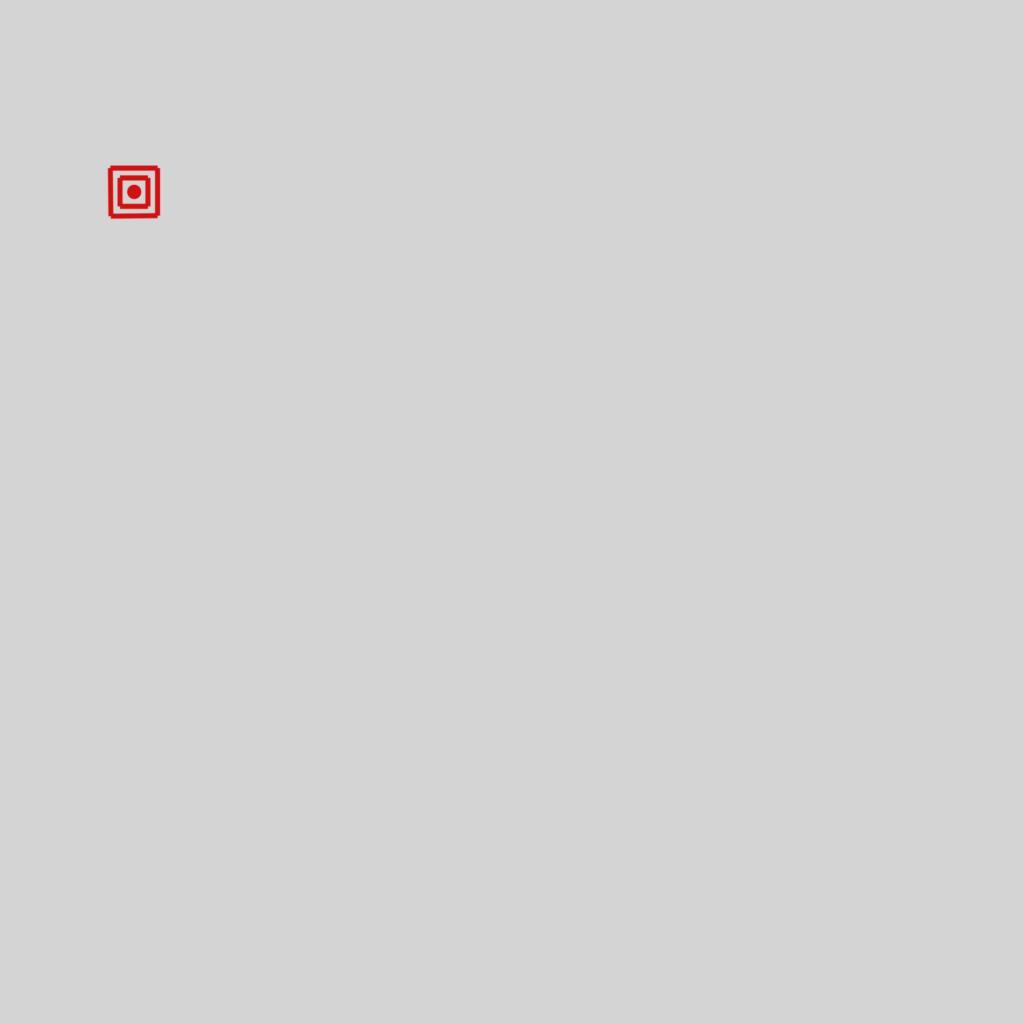NAM-Nichtautomatischer_Melder: (106, 164, 162, 220)
